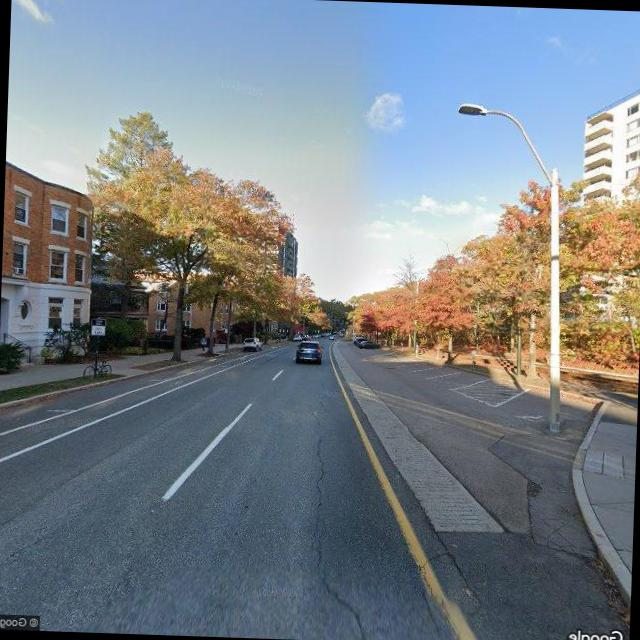pothole: (306, 432, 336, 570), (0, 525, 50, 603)
